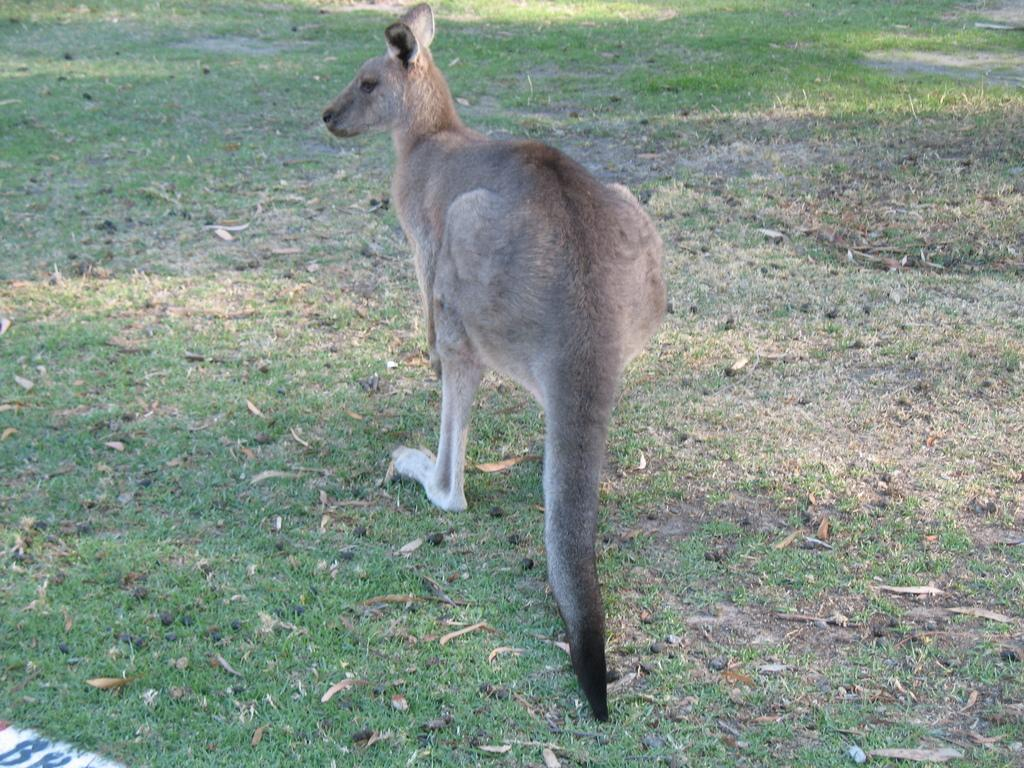kangaroo: (323, 2, 663, 725)
